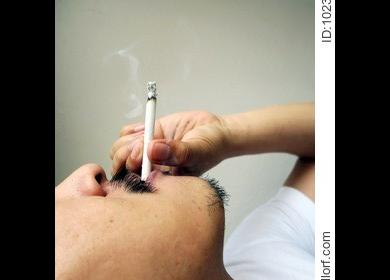Cigarette: (141, 80, 159, 180)
